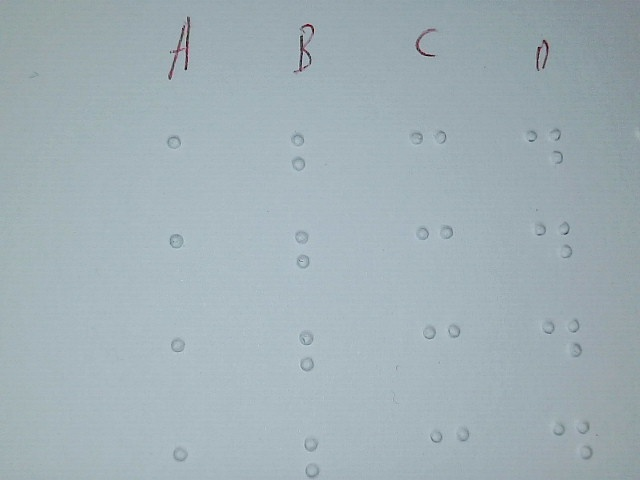A: (162, 130, 207, 209), (166, 229, 211, 308), (167, 332, 212, 411)
B: (286, 129, 330, 202), (291, 226, 335, 299), (294, 324, 338, 397)
